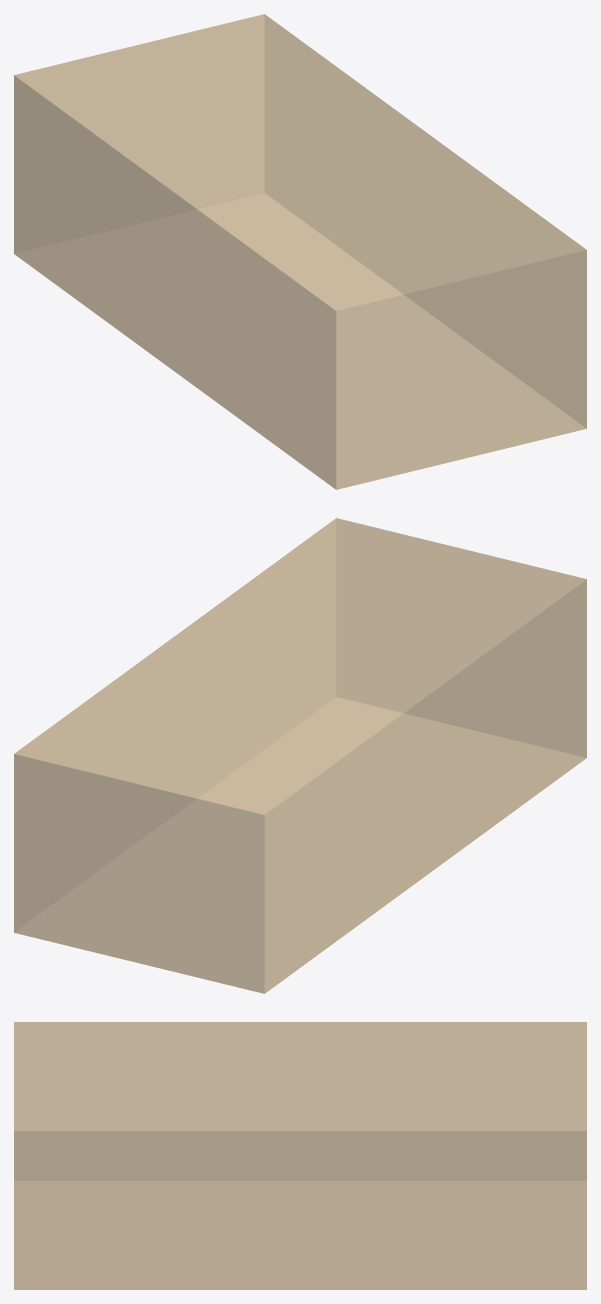
The model's file is blockout.glb.
3 views of the same model, one above another, from view 1: azimuth 30°, elevation 25°; view 2: azimuth 150°, elevation 25°; view 3: azimuth 270°, elevation 25° (orthographic). The views are drawn at different scales.
Visible parts, largest first — view 1: C01_ENVELOPE_NOT_FINAL_MESH; view 2: C01_ENVELOPE_NOT_FINAL_MESH; view 3: C01_ENVELOPE_NOT_FINAL_MESH.
Part boxes in pixels (x1,y1,x2,y2): C01_ENVELOPE_NOT_FINAL_MESH: (14,14,586,489); C01_ENVELOPE_NOT_FINAL_MESH: (14,518,586,993); C01_ENVELOPE_NOT_FINAL_MESH: (14,1022,586,1289).
Size of the model in its own units: 2.2 by 1.5 by 4.9.
